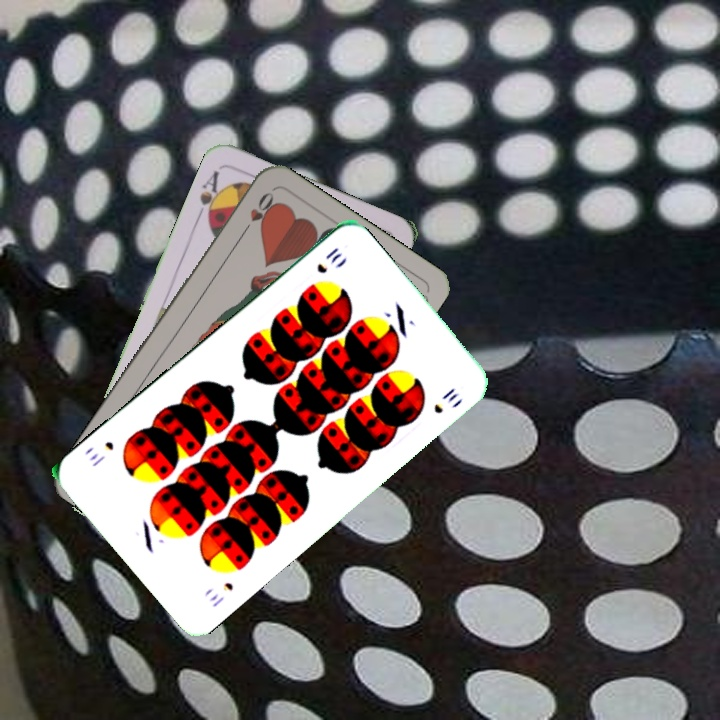HO: (237, 187, 277, 239)
S10: (312, 243, 345, 277), (205, 577, 236, 610)
SA: (193, 166, 228, 226)
